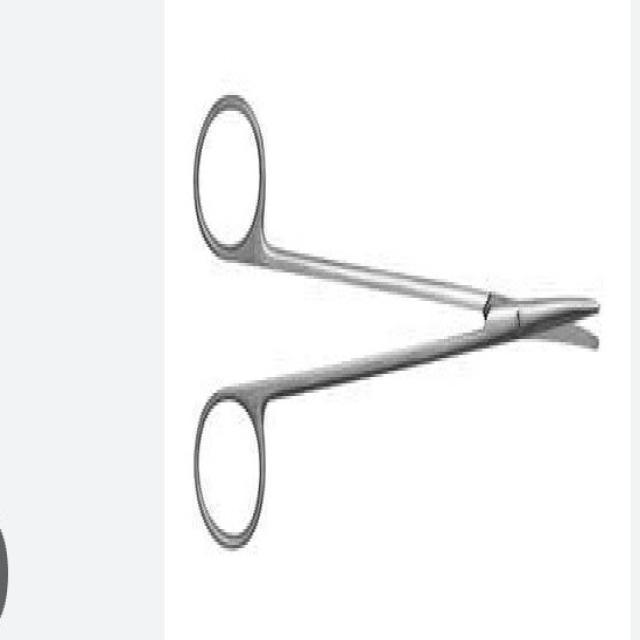Metzenbaum Sciccors: (186, 75, 610, 558)
